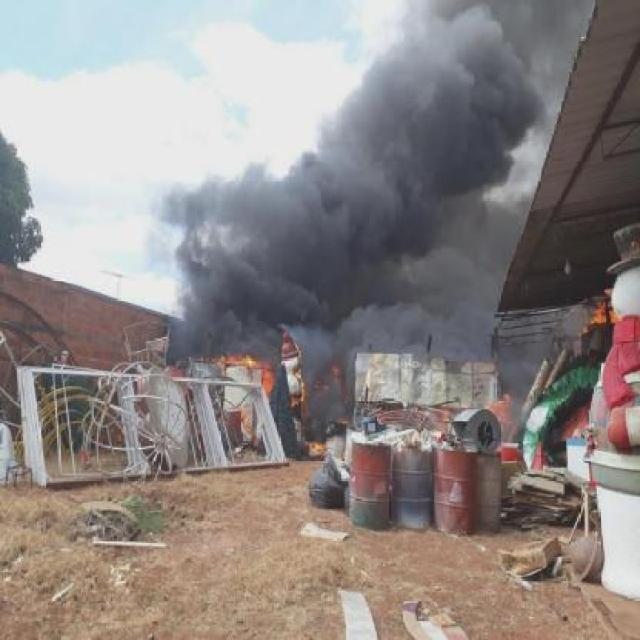Fire: (583, 293, 617, 332), (217, 351, 256, 371), (486, 394, 514, 418), (258, 358, 274, 392), (240, 410, 256, 432), (308, 438, 328, 454)
